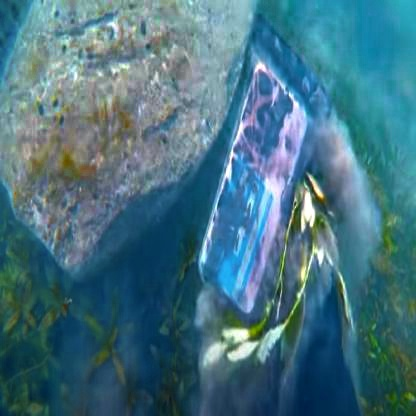cellphone: (205, 32, 328, 376)
